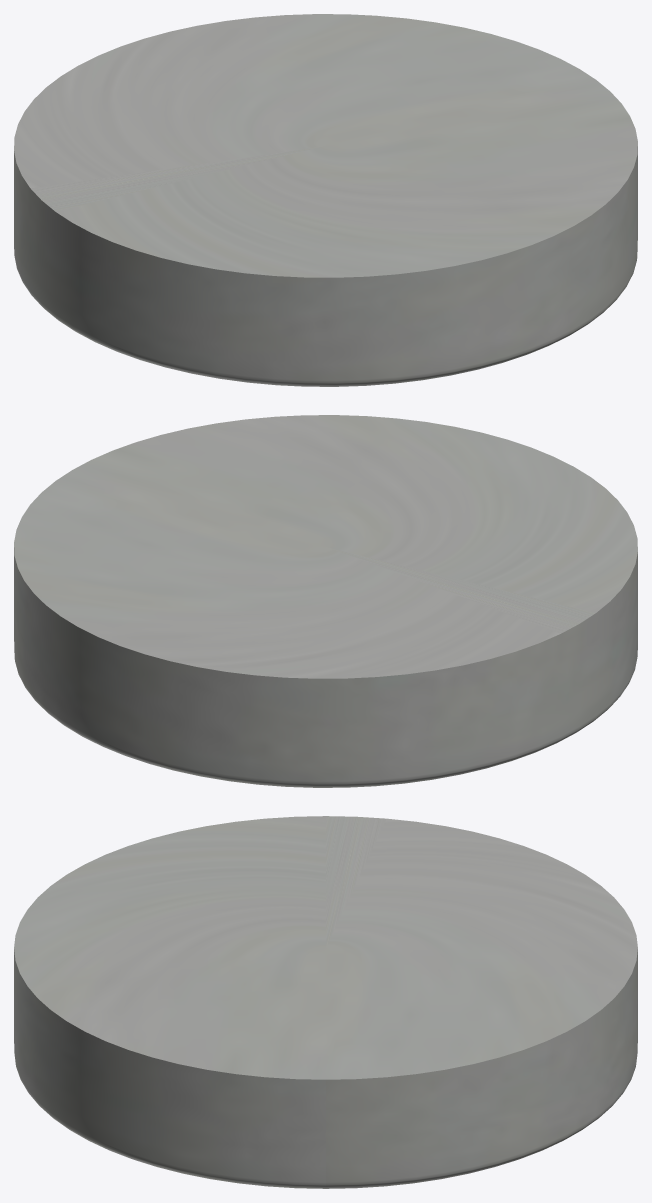
The model's file is ceiling_speaker.glb.
3 views of the same model, one above another, from view 1: azimuth 30°, elevation 25°; view 2: azimuth 150°, elevation 25°; view 3: azimuth 270°, elevation 25° (orthographic).
Parts seen in each view (by area): view 1: Cylinder.001; view 2: Cylinder.001; view 3: Cylinder.001.
Boxes of the visible parts, x1,y1,x2,y2 form: Cylinder.001: (14, 14, 637, 386); Cylinder.001: (14, 415, 637, 787); Cylinder.001: (14, 816, 637, 1188).
Size of the model in its own units: 0.3599 by 0.0829 by 0.3599.
1 material, 1 textured.
